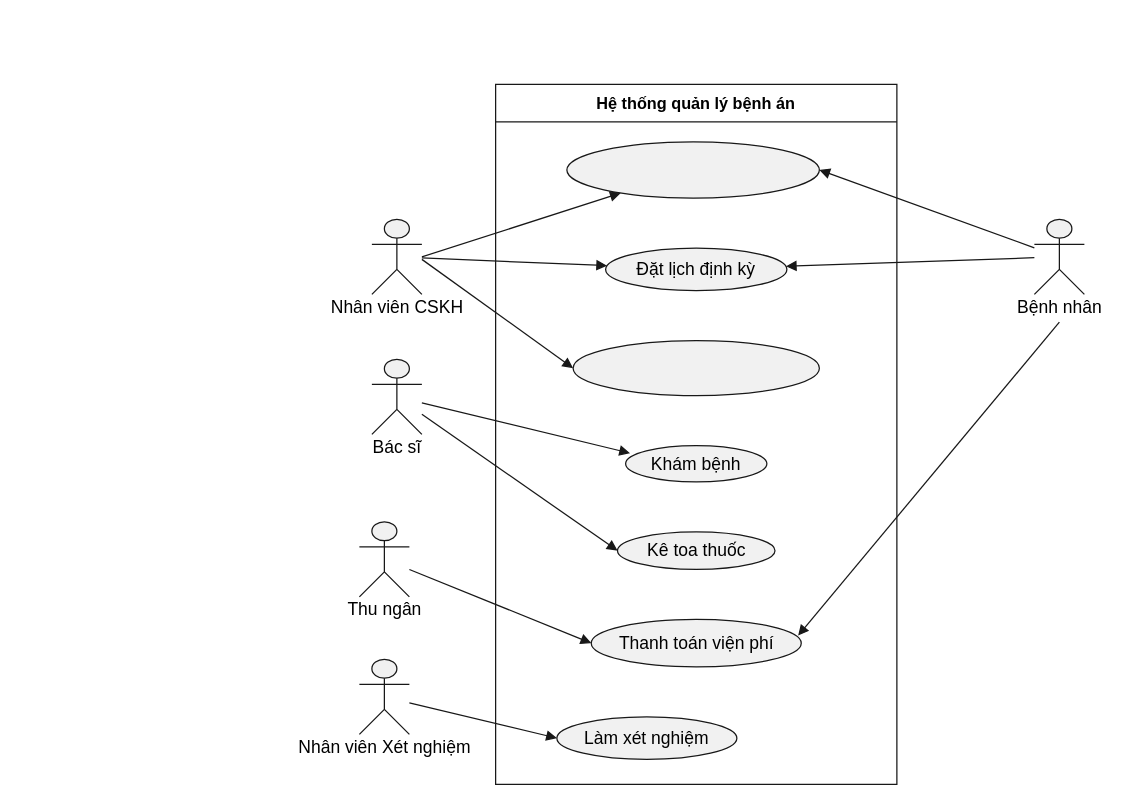
This 1130x806 diagram has some shape labels left out. The shapes that lost their labels are listed below. From the top down, each one's centre as x and y in pixels, then its label:
At [692,169]: "Đăng ký khám và lập hồ sơ".
At [695,367]: "Nhập liệu hồ sơ sau khám".
